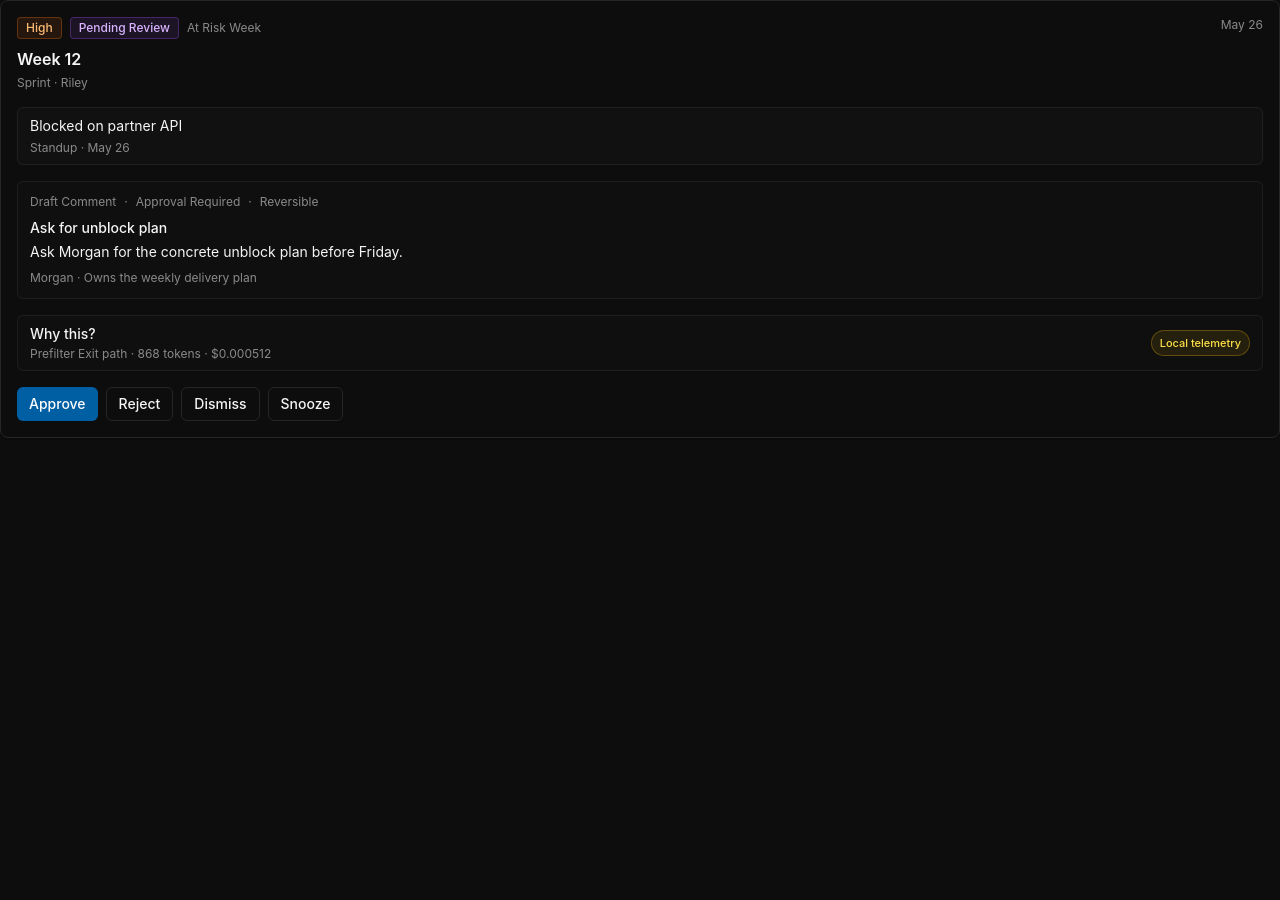
Test case: FindingCard › distinguishes local run metadata from a public trace link
Click the button "Why this?" at (63, 334), box [30,324,1250,362]
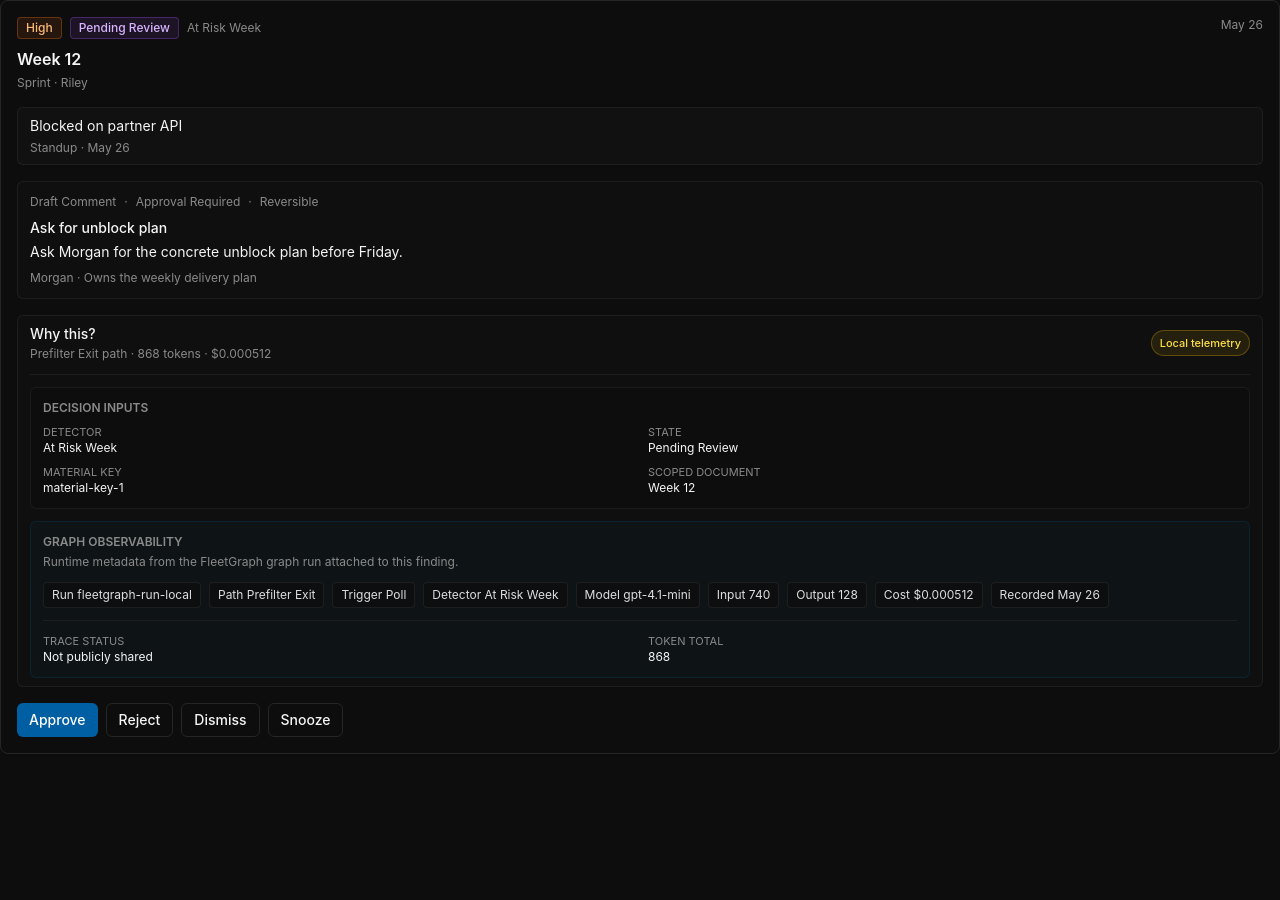
Expected: the text "Local telemetry" is shown, [1151,330,1250,356]
Expected: the text "Trace status" is shown, [43,634,124,648]
Expected: the text "Not publicly shared" is shown, [43,649,153,664]
